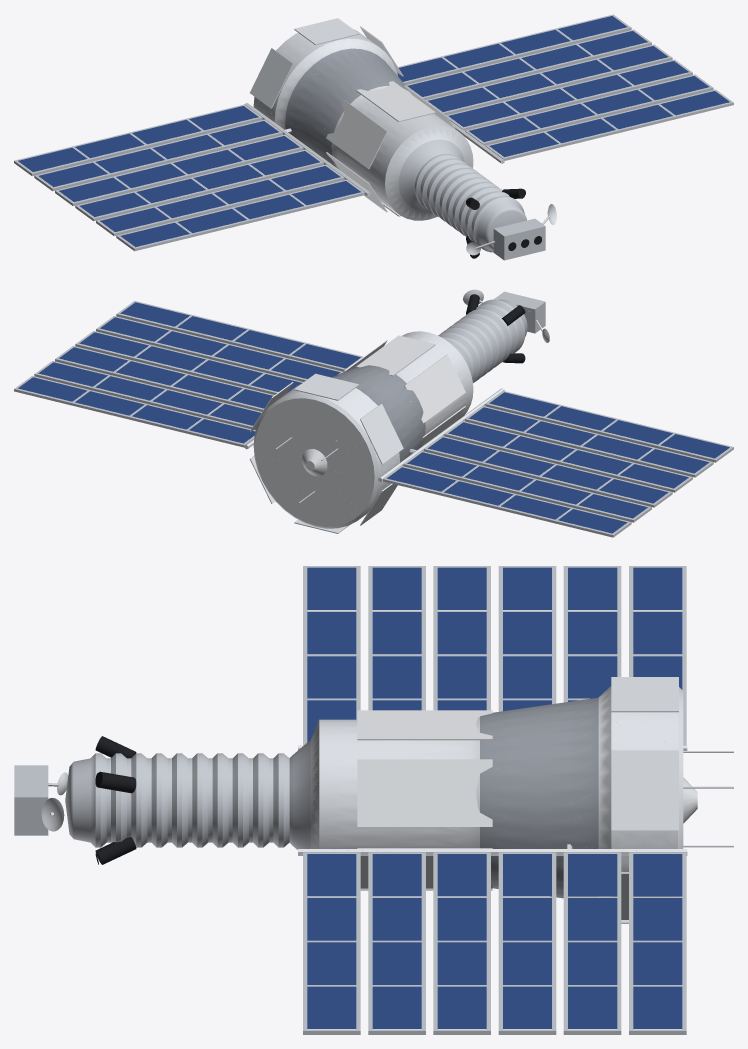
Rendered from resurs-p.glb.
3 renders of one model, top to bottom at view 1: azimuth 30°, elevation 25°; view 2: azimuth 150°, elevation 25°; view 3: azimuth 270°, elevation 25°, orthographic. The views are drawn at different scales.
Parts seen in each view (by area): view 1: solar-panel, body; view 2: solar-panel, body; view 3: solar-panel, body.
Boxes of the visible parts, x1,y1,x2,y2 form: solar-panel: (14,14,733,251); body: (245,18,556,260); solar-panel: (14,301,733,537); body: (244,289,549,533); solar-panel: (303,566,686,1034); body: (14,677,733,923).
Bounding box in the file's own units: 13 × 2.78 × 8.51.
